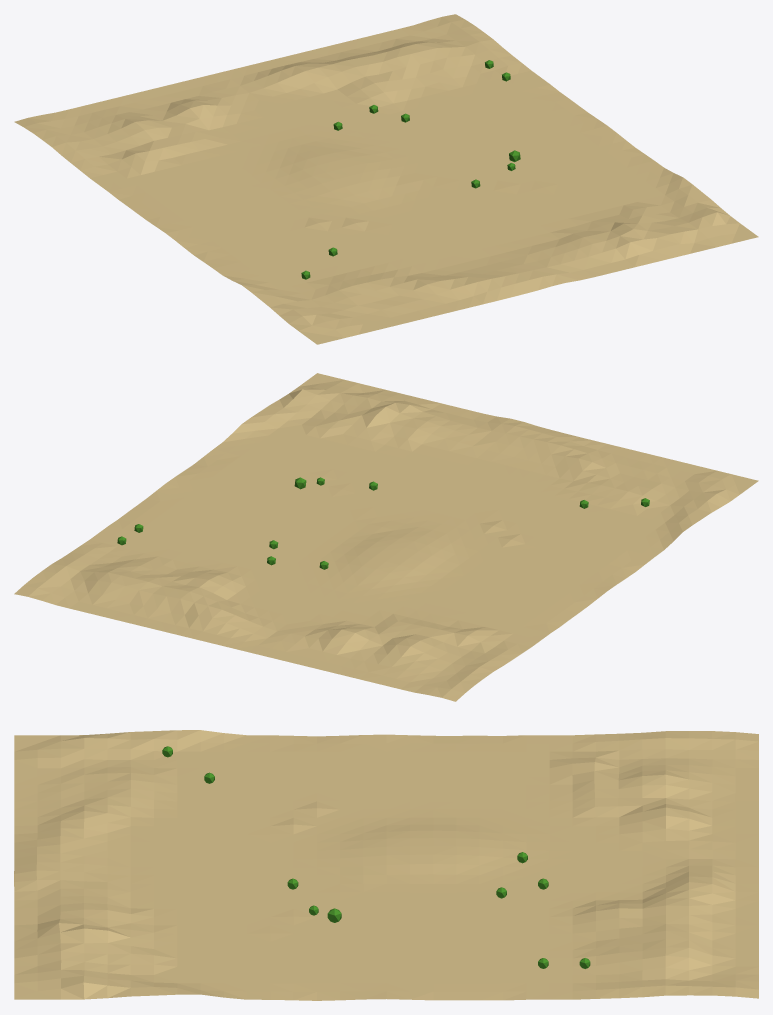
The model's file is suelo4.dae.
3 renders of one model, top to bottom at view 1: azimuth 30°, elevation 25°; view 2: azimuth 150°, elevation 25°; view 3: azimuth 270°, elevation 25°, orthographic. The views are drawn at different scales.
Visible parts, largest first — view 1: campo; view 2: campo; view 3: campo.
Boxes of the visible parts, x1=… form: campo: x1=14, y1=14, x2=758, y2=344; campo: x1=14, y1=373, x2=758, y2=701; campo: x1=14, y1=730, x2=758, y2=1000.
Size of the model in its own units: 30 by 35.7 by 1.29.
